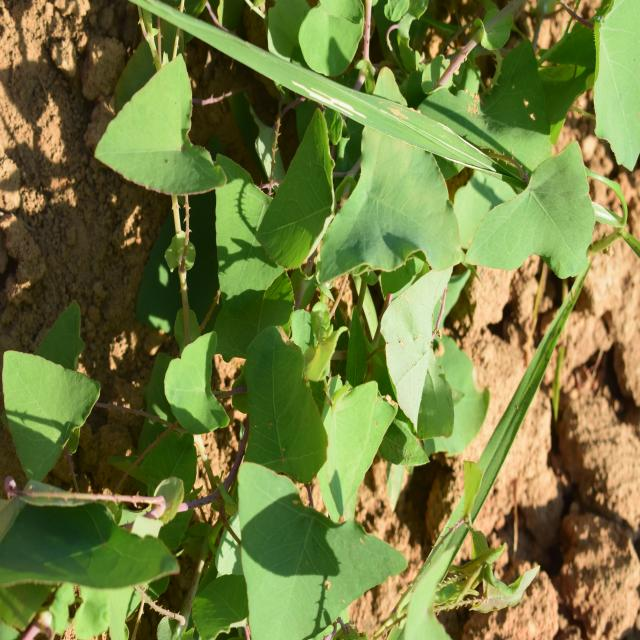Asiatic_Smartweed: (316, 103, 485, 443), (210, 132, 349, 476), (214, 456, 404, 635), (96, 49, 222, 209), (0, 322, 116, 483), (474, 145, 596, 287)
